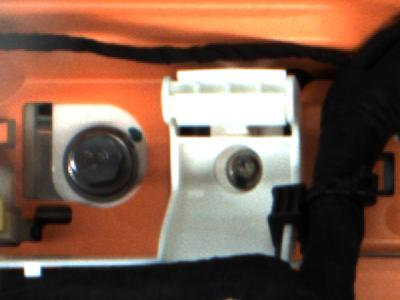nut_b: (59, 129, 148, 201)
screw_m: (222, 147, 270, 197)
